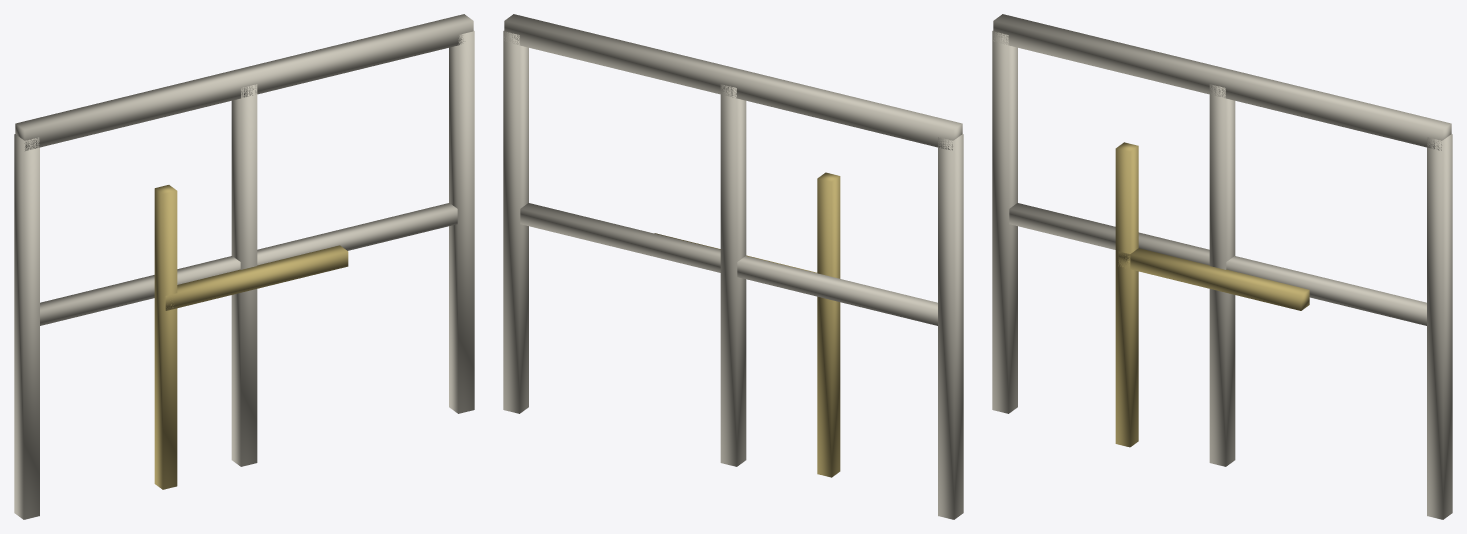
File: civic_gate_l120_h100.glb
3 renders of one model, left to right at view 1: azimuth 30°, elevation 25°; view 2: azimuth 150°, elevation 25°; view 3: azimuth 330°, elevation 25°, orthographic.
Parts seen in each view (by area): view 1: world; view 2: world; view 3: world.
Part boxes in pixels (left/top/right/bottom): world: left=14, top=14, right=474, bottom=519; world: left=503, top=14, right=963, bottom=519; world: left=992, top=14, right=1452, bottom=519.
Size of the model in its own units: 1.25 by 1.03 by 0.0825.
